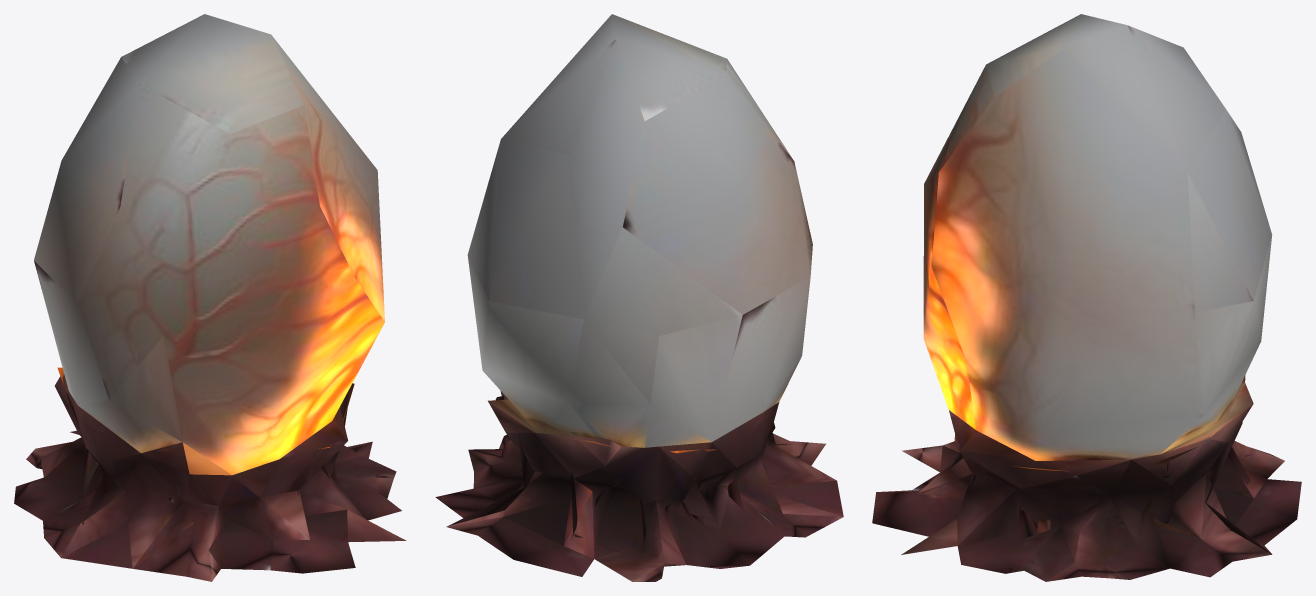
Rendered from enemy_egg_lod.glb.
3 renders of one model, left to right at view 1: azimuth 30°, elevation 25°; view 2: azimuth 150°, elevation 25°; view 3: azimuth 270°, elevation 25°, orthographic. The views are drawn at different scales.
Visible parts, largest first — view 1: enemy_egg; view 2: enemy_egg; view 3: enemy_egg.
Boxes of the visible parts, left/top/right/bottom form: enemy_egg: left=14, top=14, right=406, bottom=581; enemy_egg: left=435, top=14, right=843, bottom=581; enemy_egg: left=872, top=14, right=1301, bottom=581.
Size of the model in its own units: 0.7631 by 1 by 0.7983.
1 material, 1 textured.
